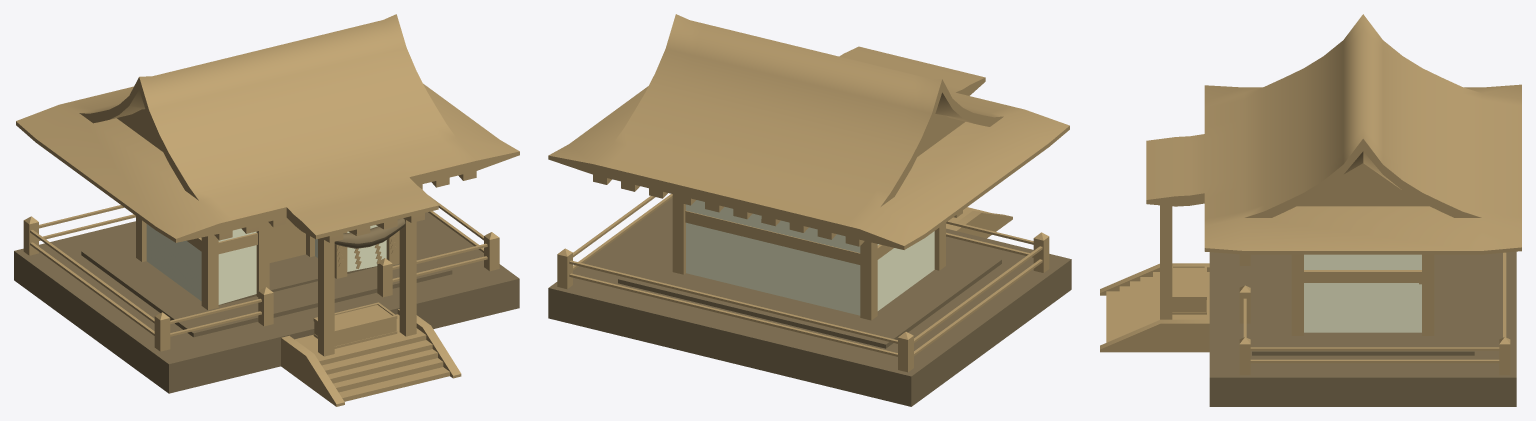
The model's file is JapaneseHouse_6.fbx.
3 renders of one model, left to right at view 1: azimuth 30°, elevation 25°; view 2: azimuth 150°, elevation 25°; view 3: azimuth 270°, elevation 25°, orthographic. The views are drawn at different scales.
Visible parts, largest first — view 1: JapaneseHouse 6; view 2: JapaneseHouse 6; view 3: JapaneseHouse 6.
Boxes of the visible parts, x1,y1,x2,y2 form: JapaneseHouse 6: (14,14,519,406); JapaneseHouse 6: (548,14,1071,406); JapaneseHouse 6: (1100,14,1521,406).
Size of the model in its own units: 728 by 493 by 765.
